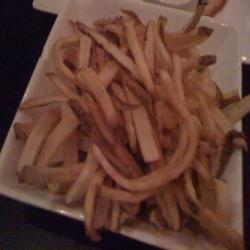fries: (58, 29, 209, 193)
